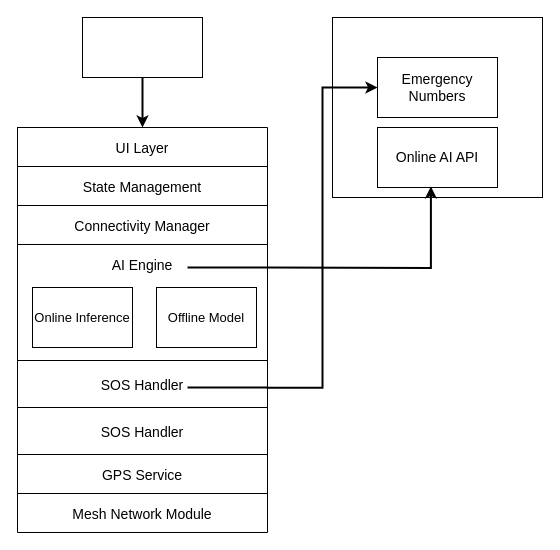
The diagram is 560 pixels wide and 550 high, and some of its shapes have lost their labels. The box of each missing label's shape, as (x1, y1, x2, y2) in pixels:
External Services: (332, 16, 542, 198)
Mobile App: (82, 16, 202, 78)
